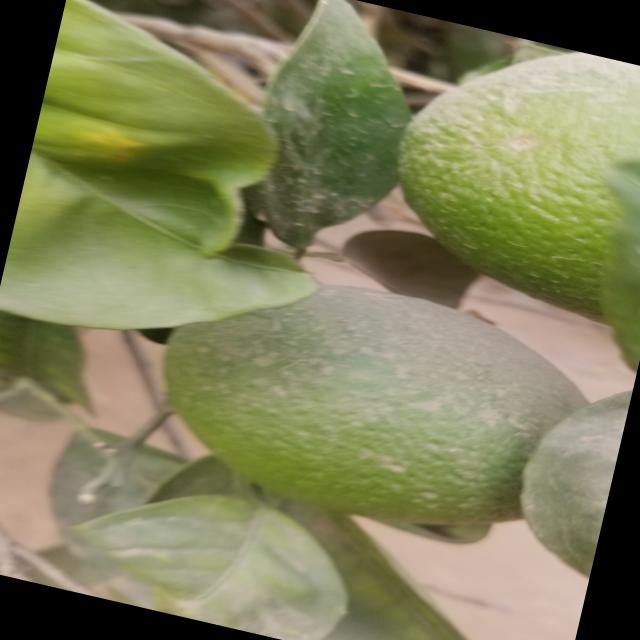agrume: (151, 247, 572, 546), (370, 18, 640, 338), (496, 368, 632, 580)
